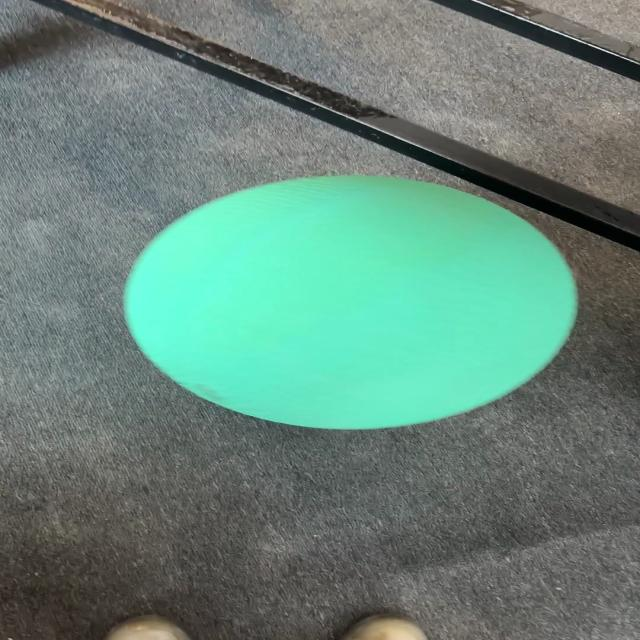Algae: (121, 174, 580, 430)
